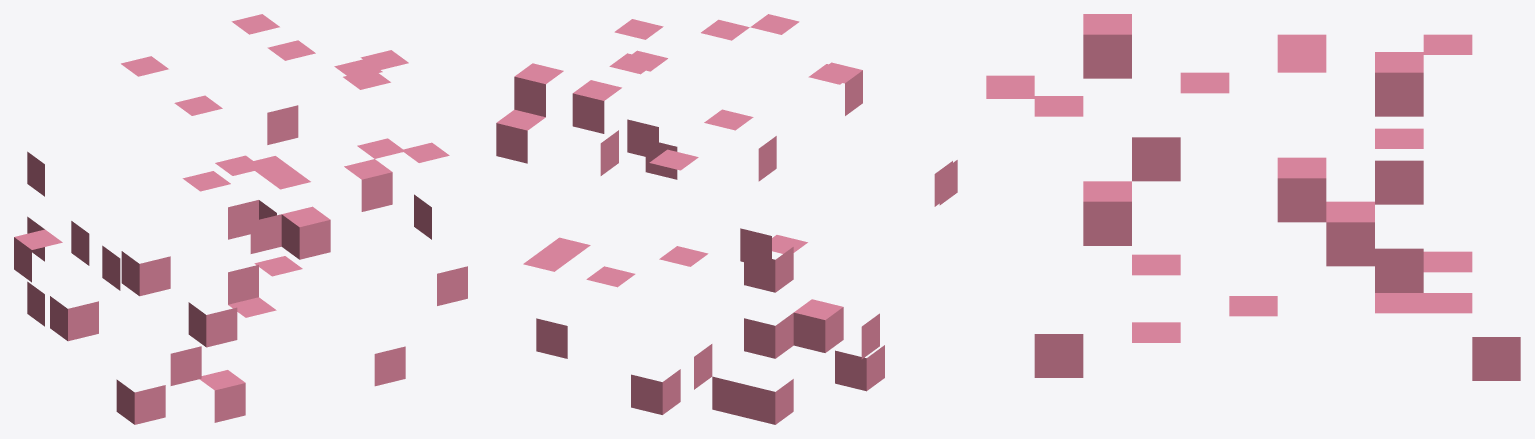
The model's file is tree-cherry-0p9-pink1-f28fab.gltf.
3 renders of one model, left to right at view 1: azimuth 30°, elevation 25°; view 2: azimuth 150°, elevation 25°; view 3: azimuth 270°, elevation 25°, orthographic. The views are drawn at different scales.
Parts seen in each view (by area): view 1: tree-cherry-0p9-pink1-f28fab; view 2: tree-cherry-0p9-pink1-f28fab; view 3: tree-cherry-0p9-pink1-f28fab.
Part boxes in pixels (<box>): tree-cherry-0p9-pink1-f28fab: <box>14,14,467,424</box>; tree-cherry-0p9-pink1-f28fab: <box>496,14,957,424</box>; tree-cherry-0p9-pink1-f28fab: <box>986,14,1520,380</box>.
Size of the model in its own units: 11 by 9 by 11.
